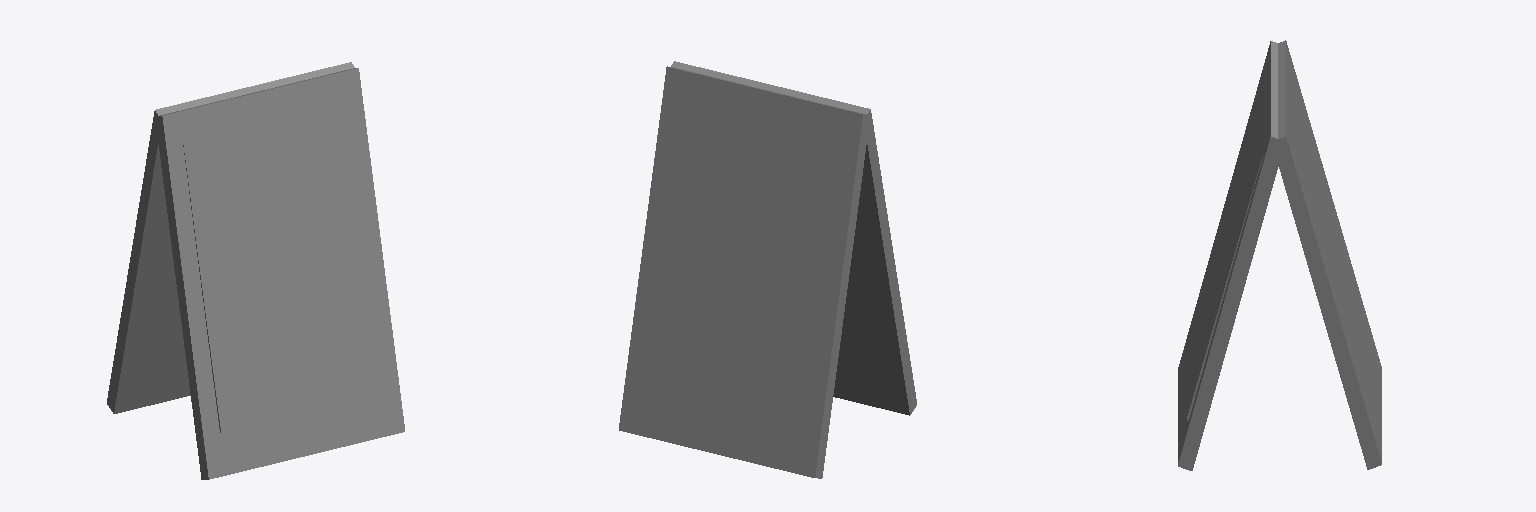
File: standMadera_LukeComida.obj
The picture shows the model from 3 angles: view 1: azimuth 30°, elevation 25°; view 2: azimuth 150°, elevation 25°; view 3: azimuth 270°, elevation 25°; orthographic projection.
Visible parts, largest first — view 1: Box003, letrero, Box002; view 2: Box002, letrero; view 3: Box002, letrero, Box003.
Part boxes in pixels (x1,y1,x2,y2): Box003: (183,101,386,432); letrero: (155,68,404,479); Box002: (107,62,354,413); Box002: (619,66,867,478); letrero: (671,61,916,415); Box002: (1273,40,1381,469); letrero: (1178,41,1284,470); Box003: (1187,76,1262,420).
Bounding box in the file's own units: 3.13 × 5.1 × 2.82.